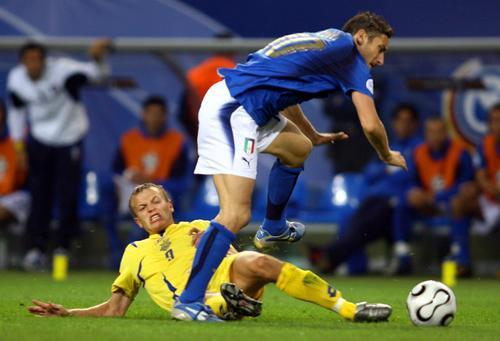fall: (27, 176, 412, 319)
